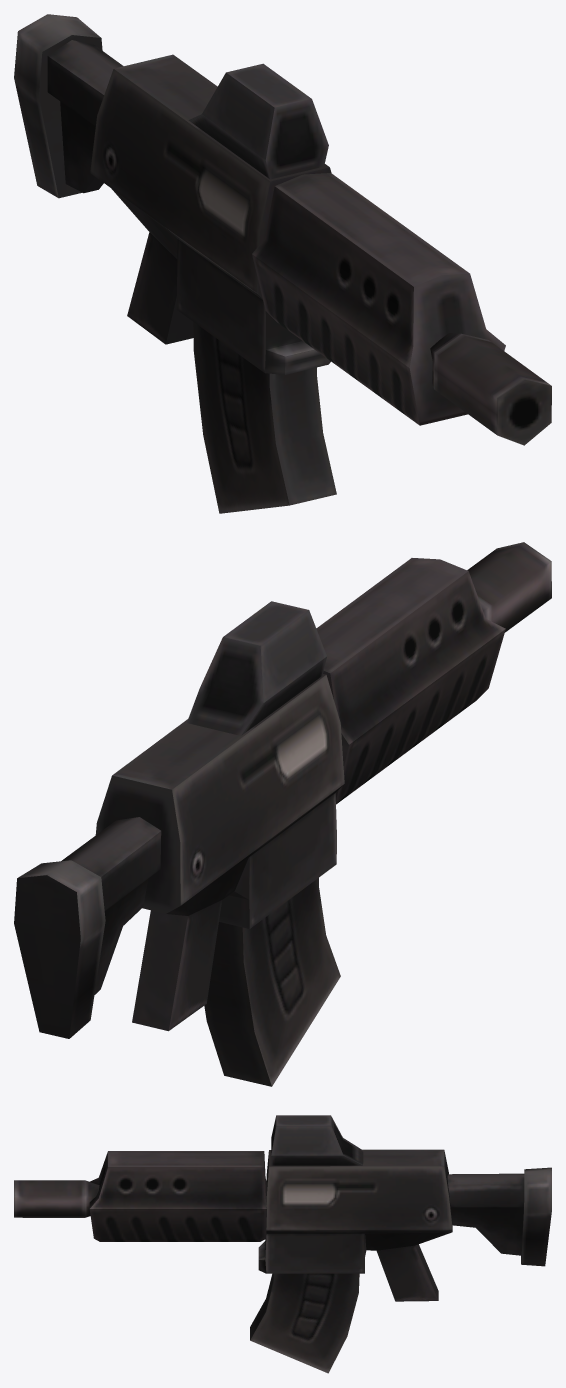
The model's file is Rifle.glb.
3 views of the same model, one above another, from view 1: azimuth 30°, elevation 25°; view 2: azimuth 150°, elevation 25°; view 3: azimuth 270°, elevation 25° (orthographic). The views are drawn at different scales.
Visible parts, largest first — view 1: SM_weapon_assault_rifle_A; view 2: SM_weapon_assault_rifle_A; view 3: SM_weapon_assault_rifle_A.
Part boxes in pixels (x1,y1,x2,y2): SM_weapon_assault_rifle_A: (14,14,551,513); SM_weapon_assault_rifle_A: (14,542,551,1086); SM_weapon_assault_rifle_A: (14,1115,551,1373).
Size of the model in its own units: 0.1232 by 0.5288 by 1.04.
Materials: 1 (1 with a texture image).
